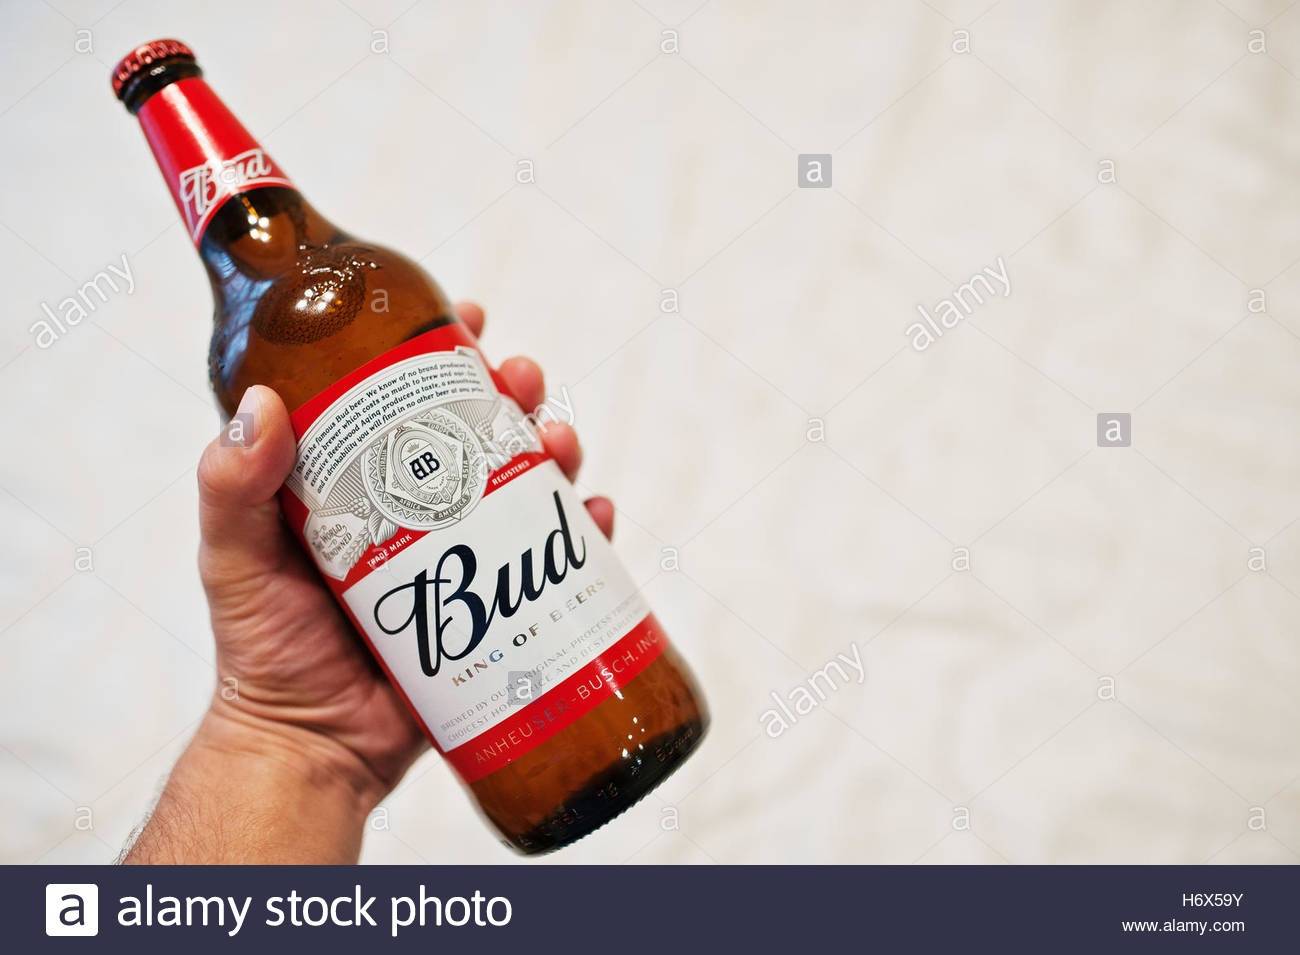beerBottle: (118, 36, 691, 821)
